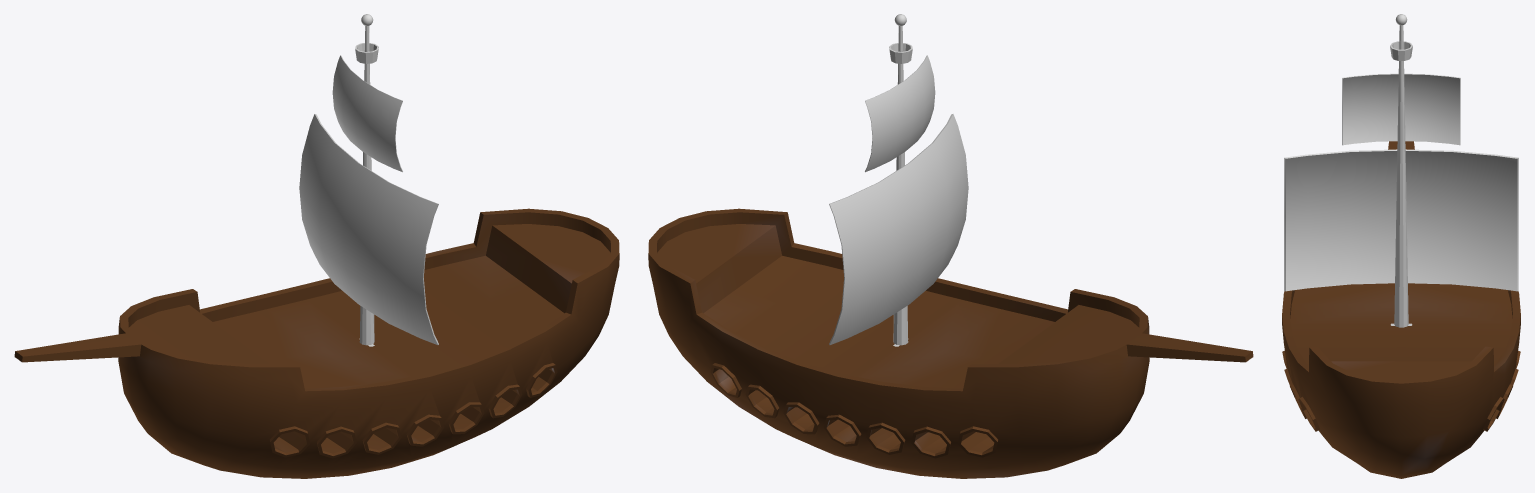
File: pirate_ship.fbx
3 renders of one model, left to right at view 1: azimuth 30°, elevation 25°; view 2: azimuth 150°, elevation 25°; view 3: azimuth 270°, elevation 25°, orthographic. The views are drawn at different scales.
Visible parts, largest first — view 1: Ship, Sail Large, Sail Small, Mast; view 2: Ship, Sail Large, Sail Small, Mast; view 3: Ship, Sail Large, Sail Small, Mast, Crow's Nest.
Boxes of the visible parts, <box> form: Ship: <box>14,208,619,478</box>; Sail Large: <box>299,114,438,344</box>; Sail Small: <box>332,55,402,172</box>; Mast: <box>359,26,374,346</box>; Ship: <box>648,208,1253,478</box>; Sail Large: <box>829,114,968,344</box>; Sail Small: <box>865,55,935,172</box>; Mast: <box>893,26,908,346</box>; Ship: <box>1282,141,1520,478</box>; Sail Large: <box>1284,149,1518,291</box>; Sail Small: <box>1342,73,1460,145</box>; Mast: <box>1390,25,1412,327</box>; Crow's Nest: <box>1390,41,1412,60</box>.
Bounding box in the file's own units: 486 × 348 × 180.
